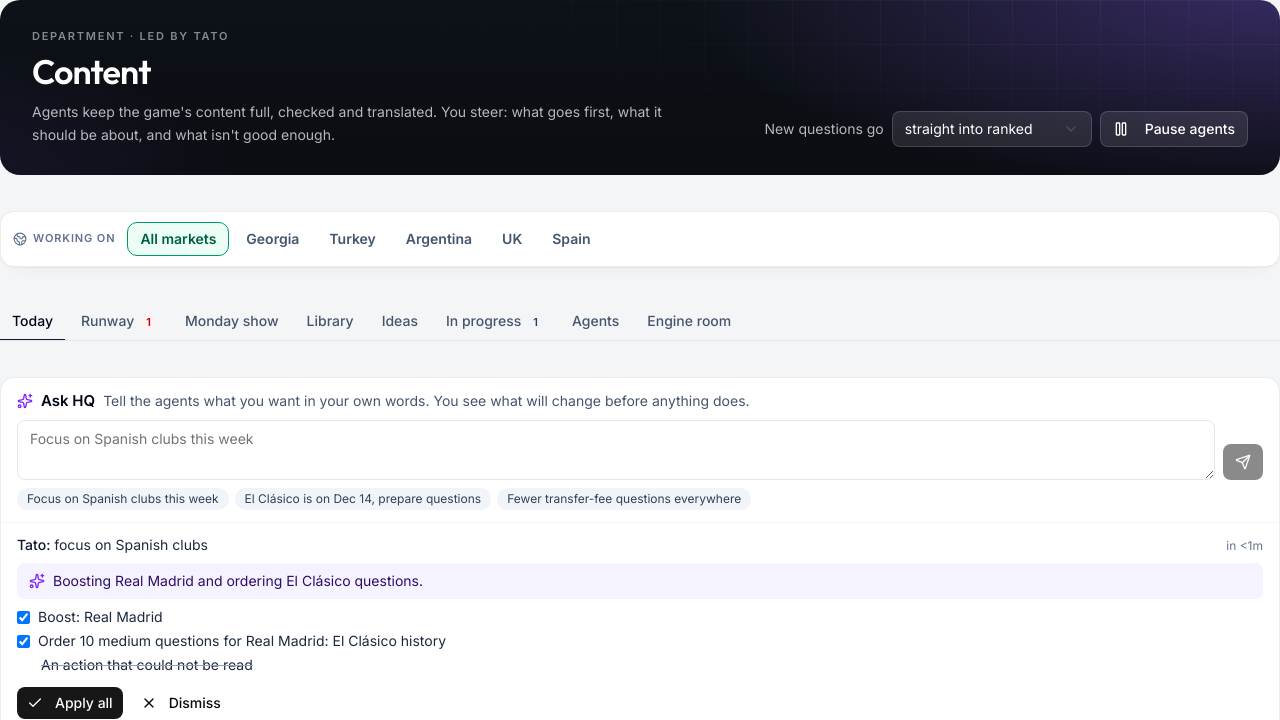
keeps a new category from going live until ranked can use it
The width and height of the screenshot is (1280, 720).
Click the tab "In progress1".
click(495, 322)  # box [434,302,556,340]
(page scrolled)
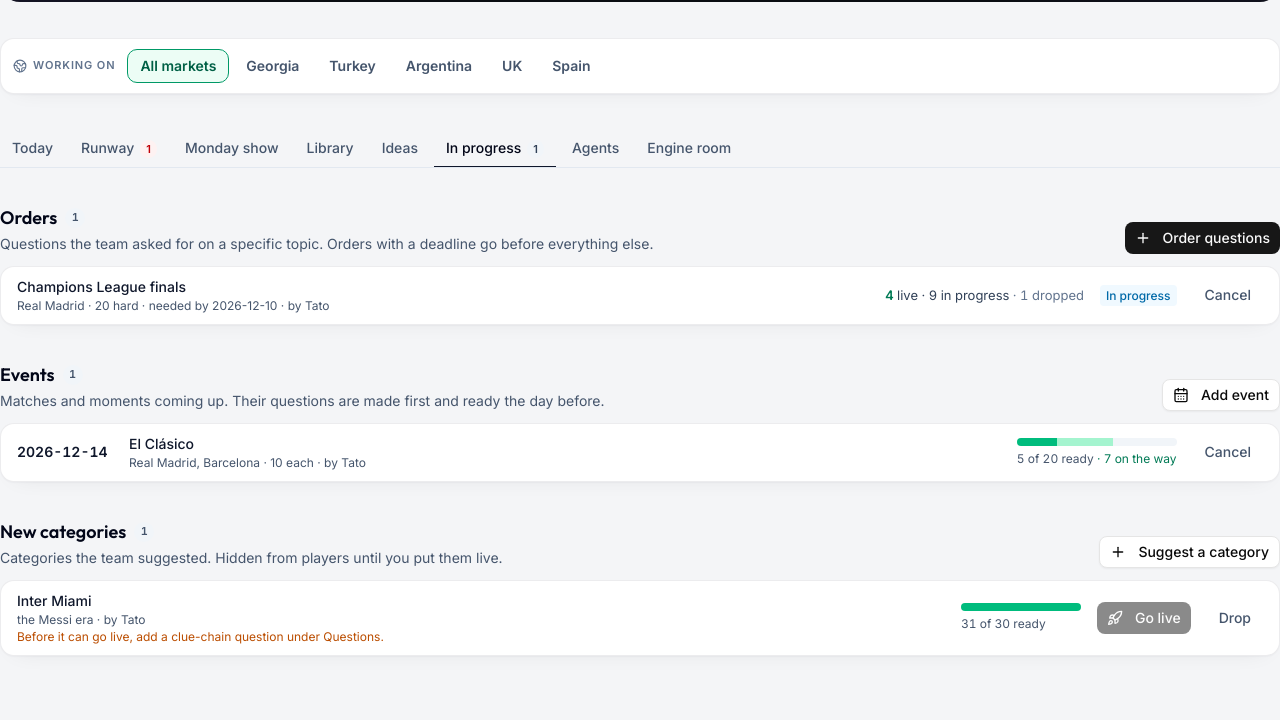
Check: the text "Before it can go live, add a clue-chain question under Questions." is shown, box [17,629,384,644]
Check: the button "Go live" is disabled, box [1097,602,1191,634]
